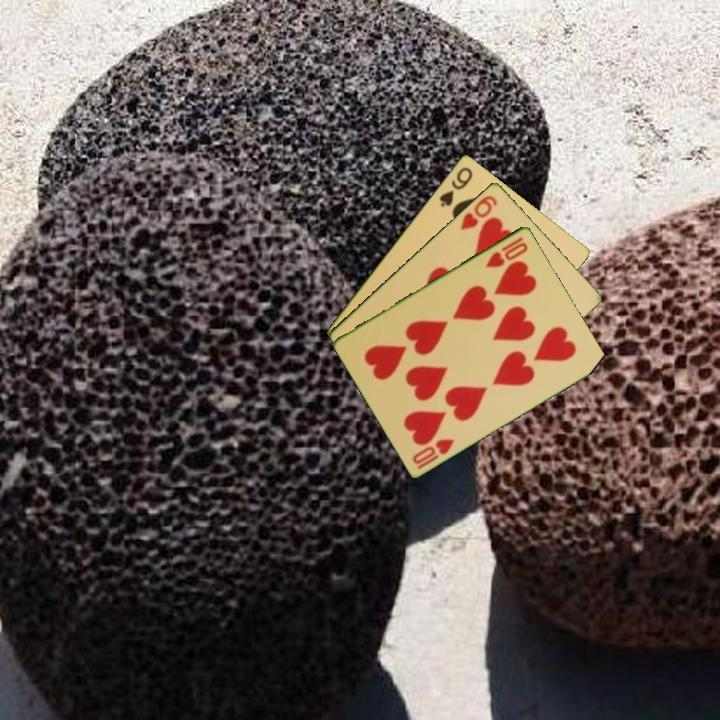10h: (482, 233, 531, 270), (409, 435, 458, 472)
6h: (457, 191, 500, 233)
9s: (436, 163, 476, 210)
